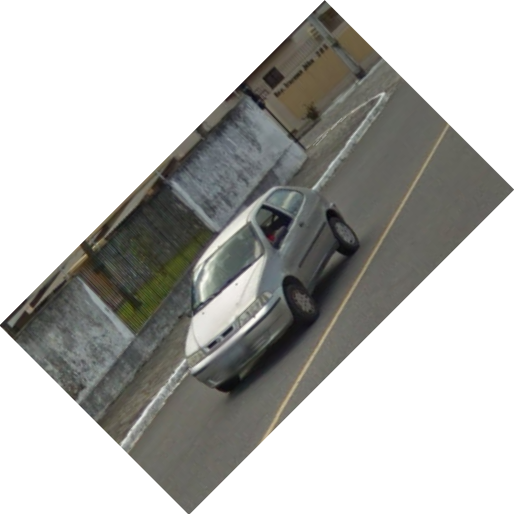car: (177, 183, 366, 399)
